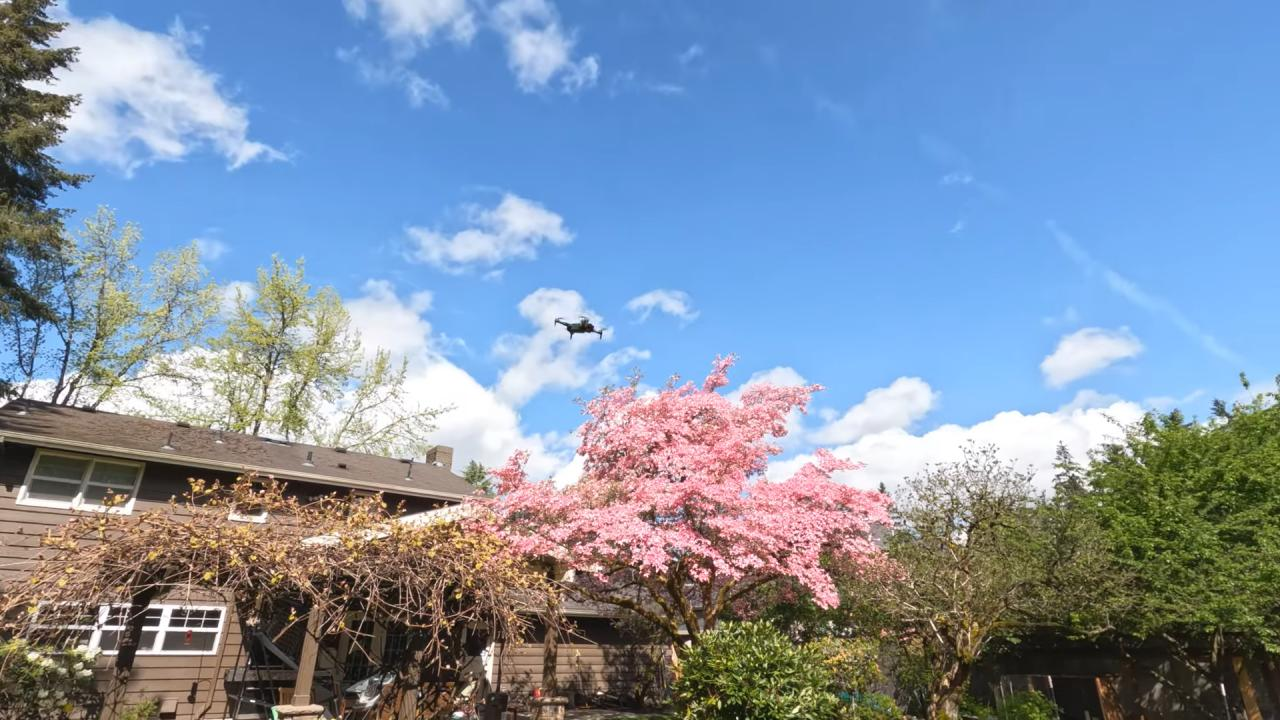Drone: (548, 312, 612, 349)
